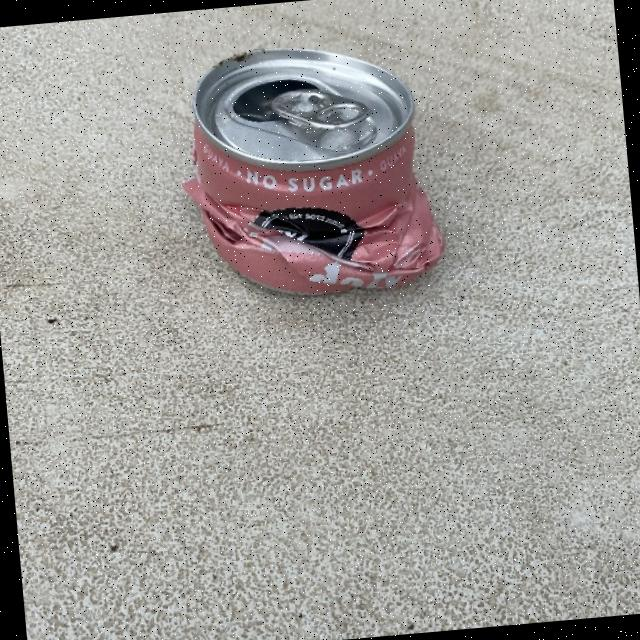metal: (169, 32, 447, 306)
